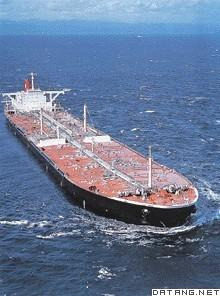Cargoship: (3, 71, 200, 227)
